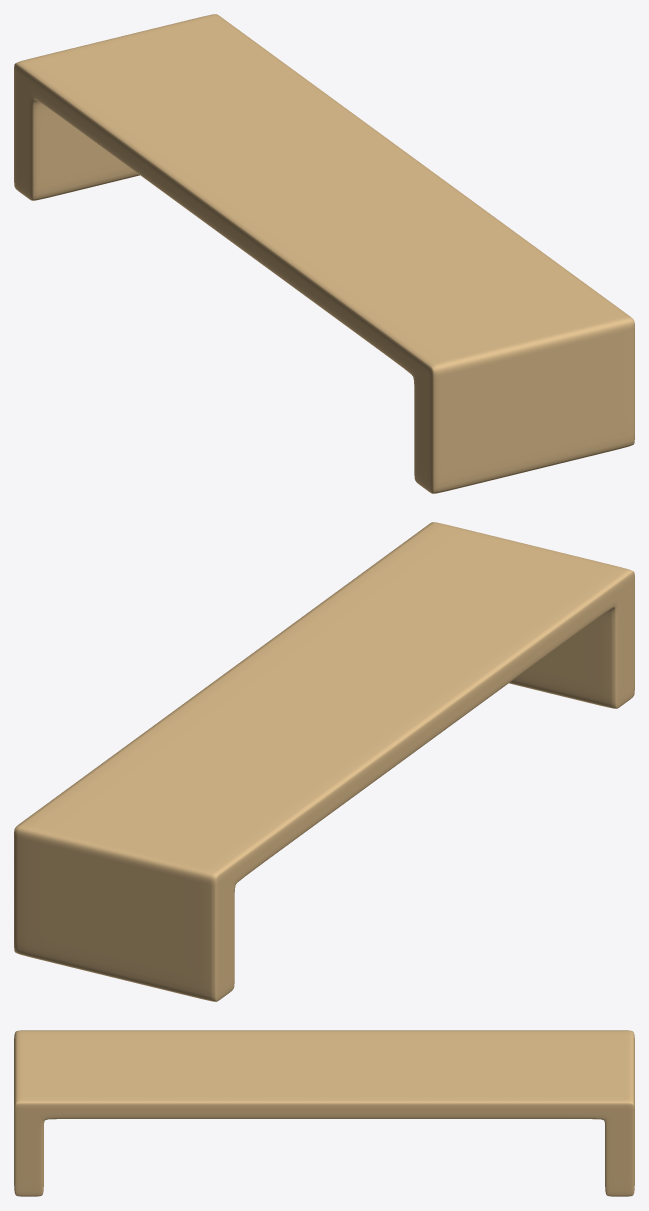
Rendered from monitorstand2.glb.
3 views of the same model, one above another, from view 1: azimuth 30°, elevation 25°; view 2: azimuth 150°, elevation 25°; view 3: azimuth 270°, elevation 25° (orthographic). The views are drawn at different scales.
Parts seen in each view (by area): view 1: Plane.006; view 2: Plane.006; view 3: Plane.006.
Part boxes in pixels (x1,y1,x2,y2): Plane.006: [14, 14, 634, 493]; Plane.006: [14, 522, 634, 1001]; Plane.006: [14, 1030, 634, 1196].
Size of the model in its own units: 0.1938 by 0.1176 by 0.6955.
